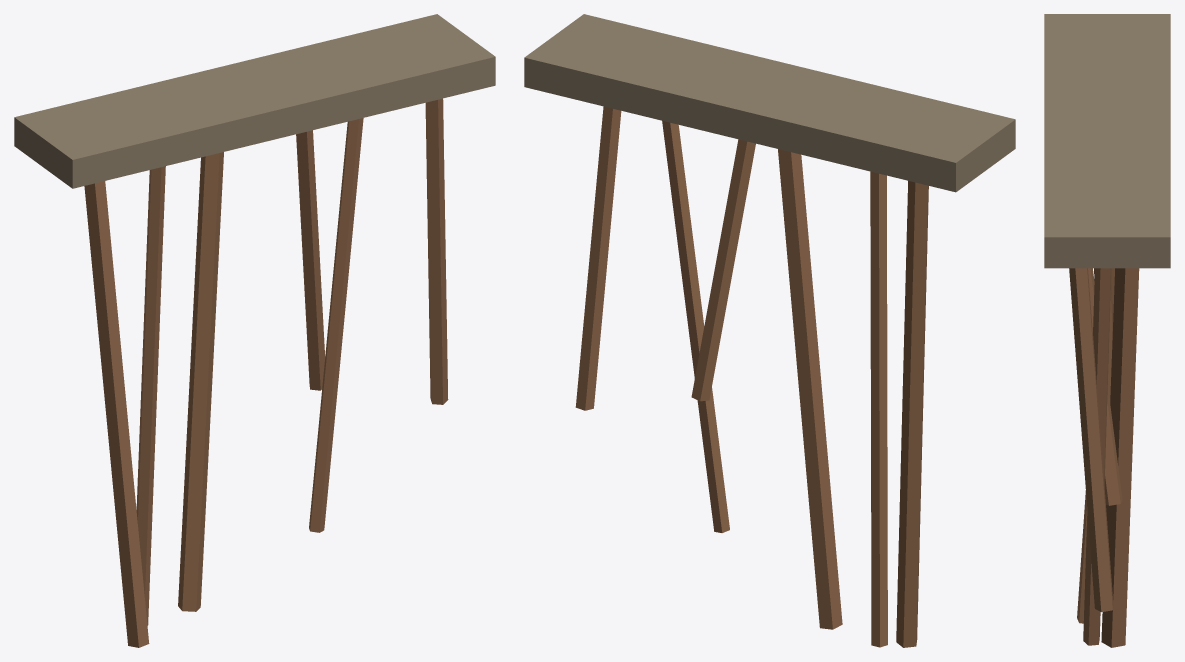
File: cave_roots_01.glb
3 renders of one model, left to right at view 1: azimuth 30°, elevation 25°; view 2: azimuth 150°, elevation 25°; view 3: azimuth 270°, elevation 25°, orthographic. The views are drawn at different scales.
Visible parts, largest first — view 1: cave_roots_01; view 2: cave_roots_01; view 3: cave_roots_01.
Part boxes in pixels (box(x1,y1,x2,y2)): cave_roots_01: box(14, 14, 495, 647); cave_roots_01: box(524, 14, 1015, 647); cave_roots_01: box(1044, 14, 1170, 647).
Size of the model in its own units: 0.92 by 1.08 by 0.22.
